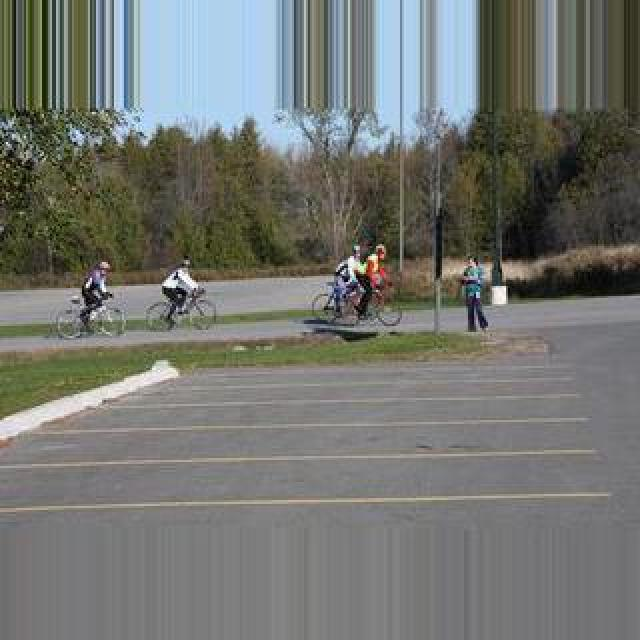MC-Bike: (332, 248, 368, 318), (80, 260, 114, 330), (458, 256, 490, 330), (162, 258, 200, 314), (362, 246, 390, 318)
Person: (312, 273, 402, 325), (146, 286, 216, 332), (57, 294, 125, 338)
